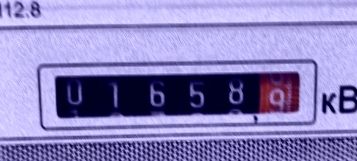0: (62, 74, 83, 107)
1: (106, 77, 119, 109)
5: (186, 77, 205, 109)
6: (146, 77, 166, 108)
8: (225, 74, 244, 106)
9: (265, 85, 284, 112)
screen: (28, 50, 321, 134)
